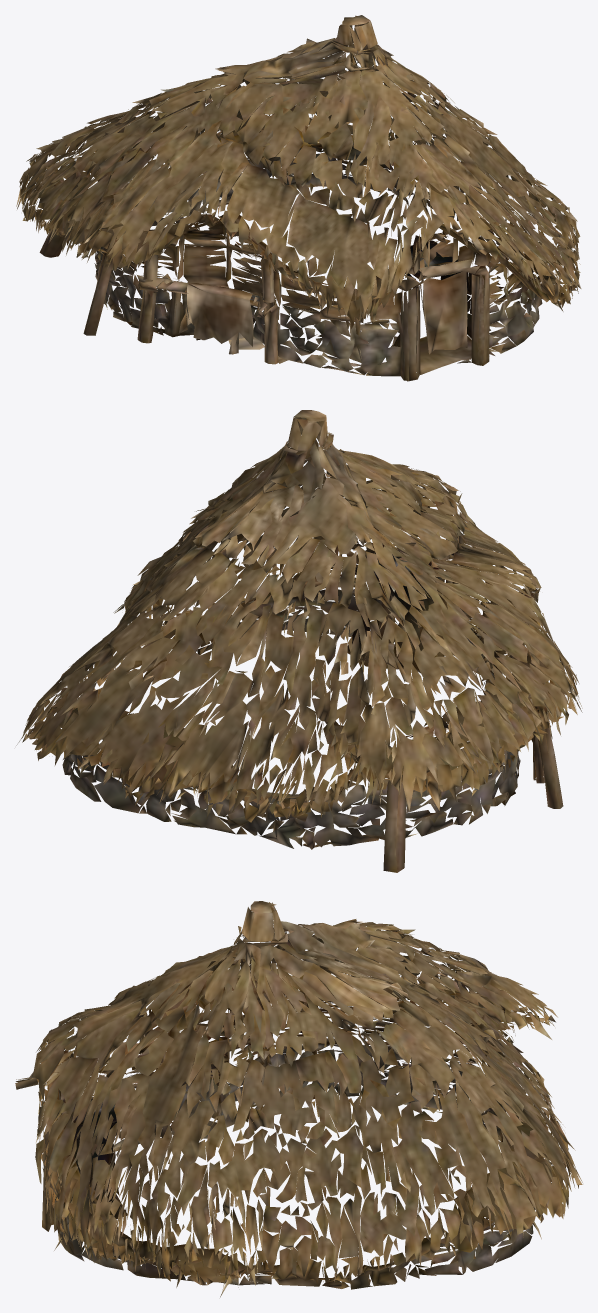
File: hunter_far.glb
3 views of the same model, one above another, from view 1: azimuth 30°, elevation 25°; view 2: azimuth 150°, elevation 25°; view 3: azimuth 270°, elevation 25° (orthographic). The views are drawn at different scales.
Parts seen in each view (by area): view 1: model; view 2: model; view 3: model.
Part boxes in pixels (<box>): model: <box>16,15,581,381</box>; model: <box>16,410,582,872</box>; model: <box>15,901,582,1297</box>.
Size of the model in its own units: 0.9936 by 0.5836 by 0.982.
Materials: 1 (1 with a texture image).
